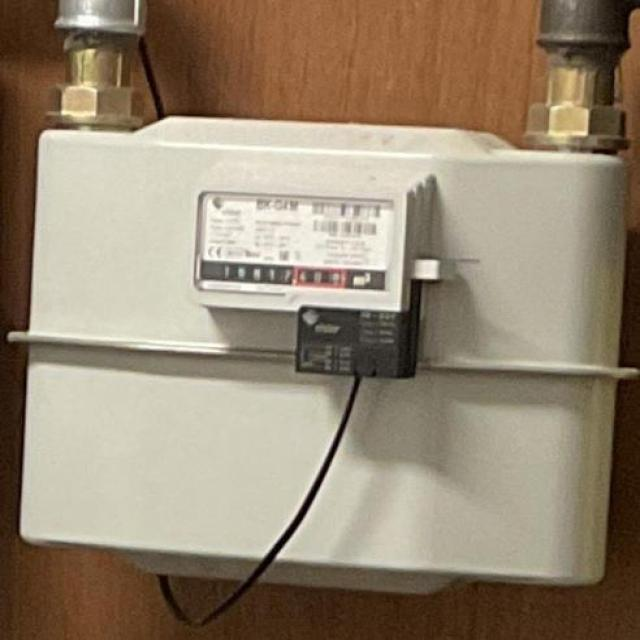gaz_meter: (197, 187, 398, 298)
indication: (211, 257, 348, 289)
